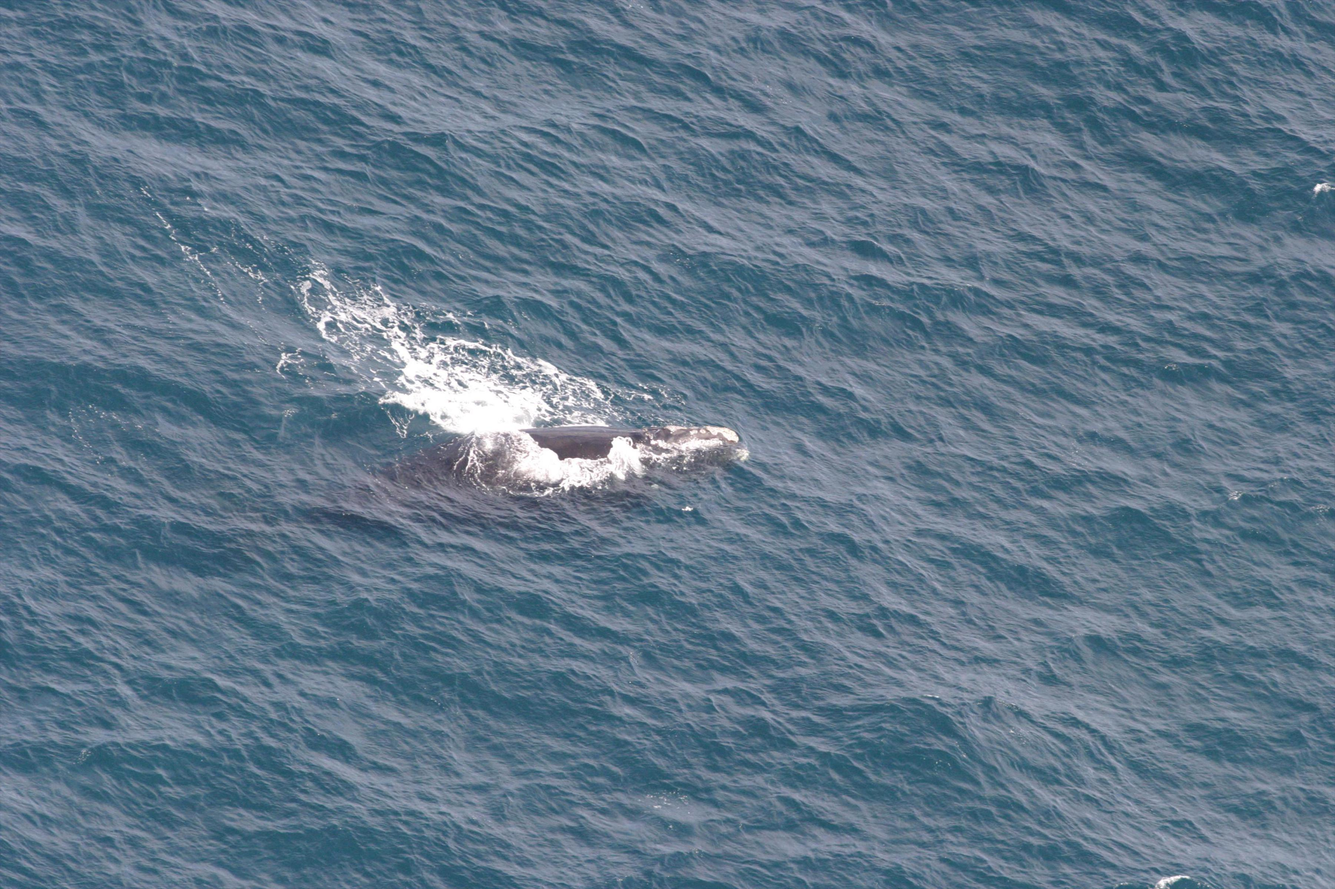whale: (326, 410, 755, 529)
